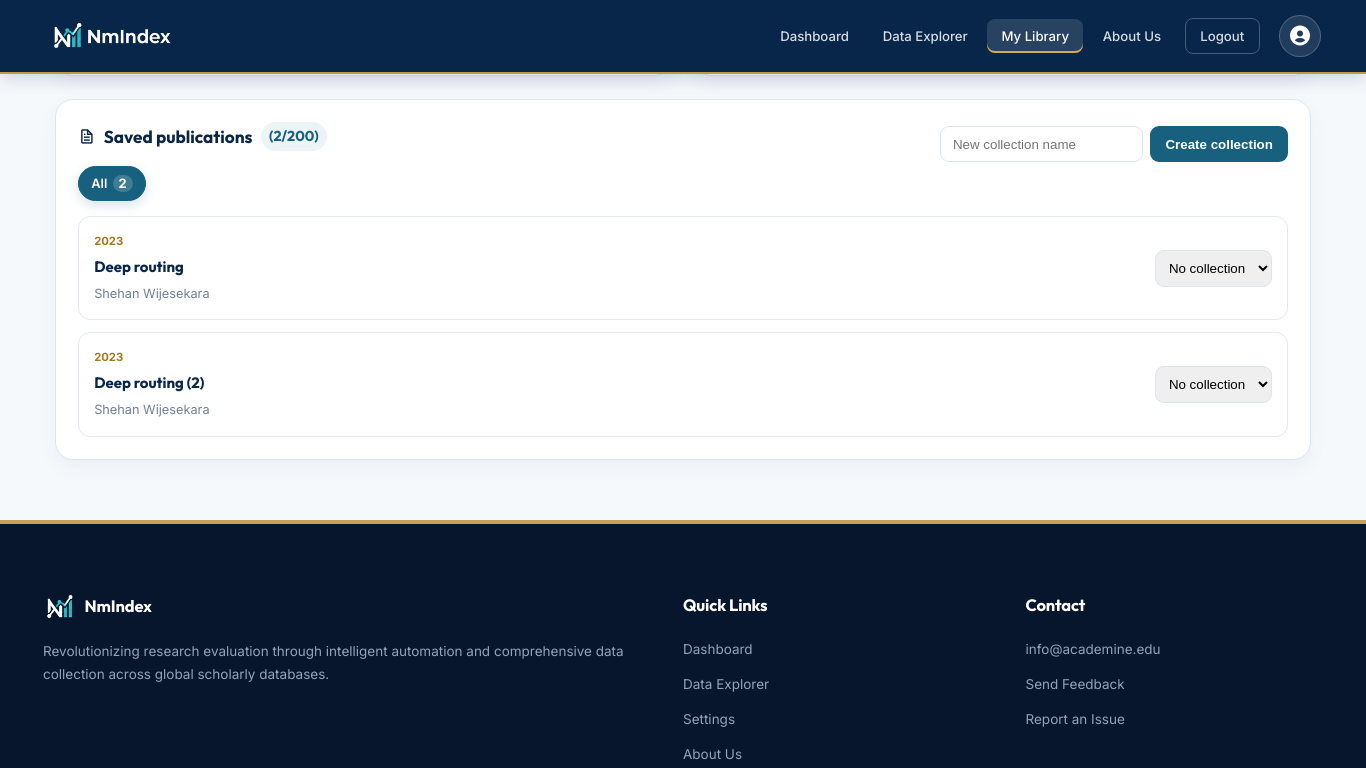
Test: similar titles: the clicked paper is the one loaded
(page scrolled)
What coordinates should you click on to do the following:
click the button "2023 Deep routing (2) Shehan Wijesekara"
I would click on:
 (149, 382)
Its box is 94,348 -> 1140,421.
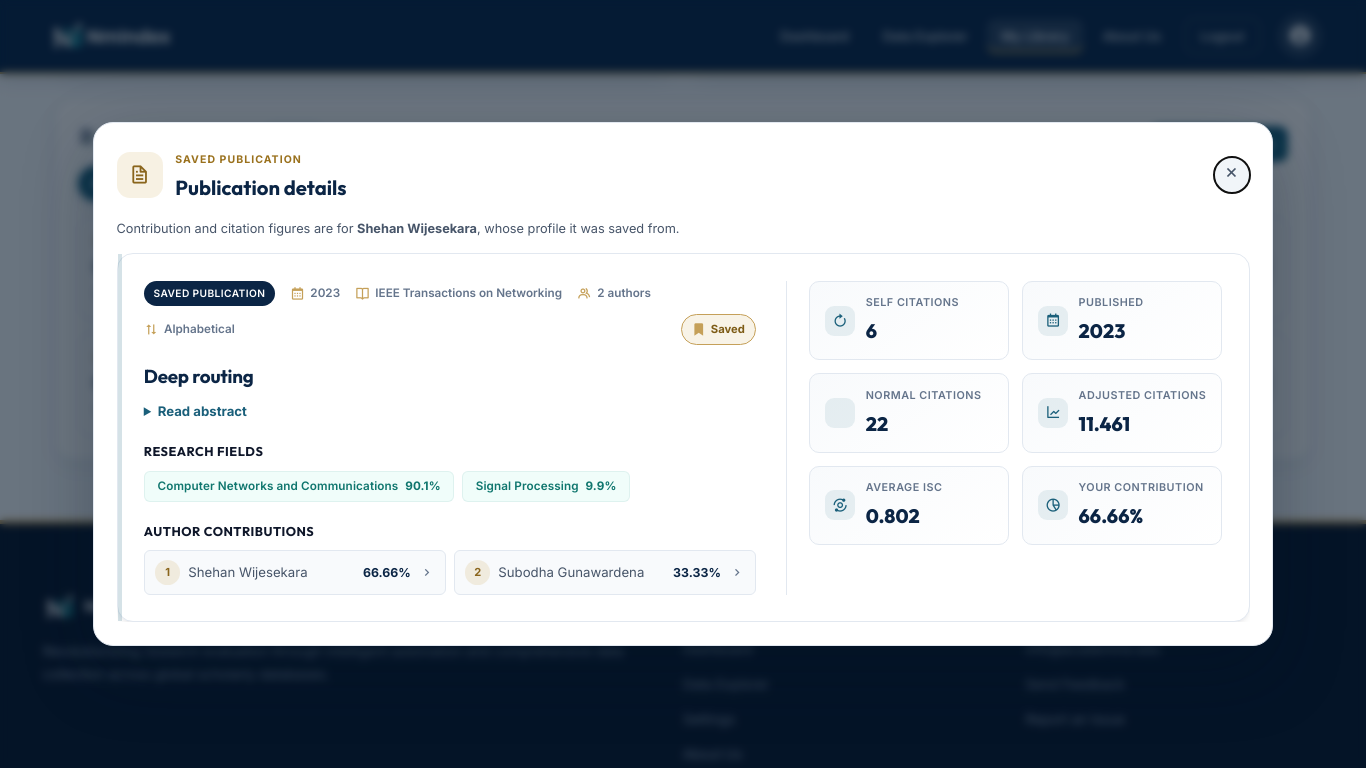
Result: the element with class "de-pub-card" is shown at 116,253 -> 1250,622
